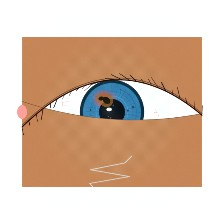foreign_body_visible: (69, 124, 118, 162)
